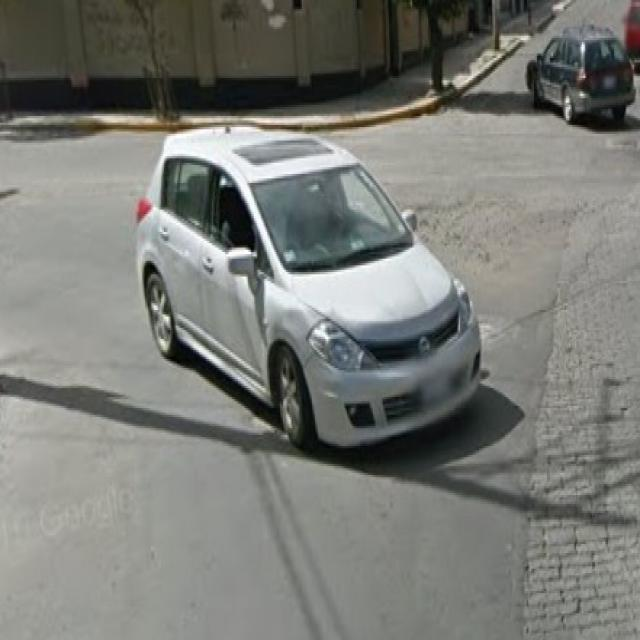truck: (140, 118, 487, 451)
